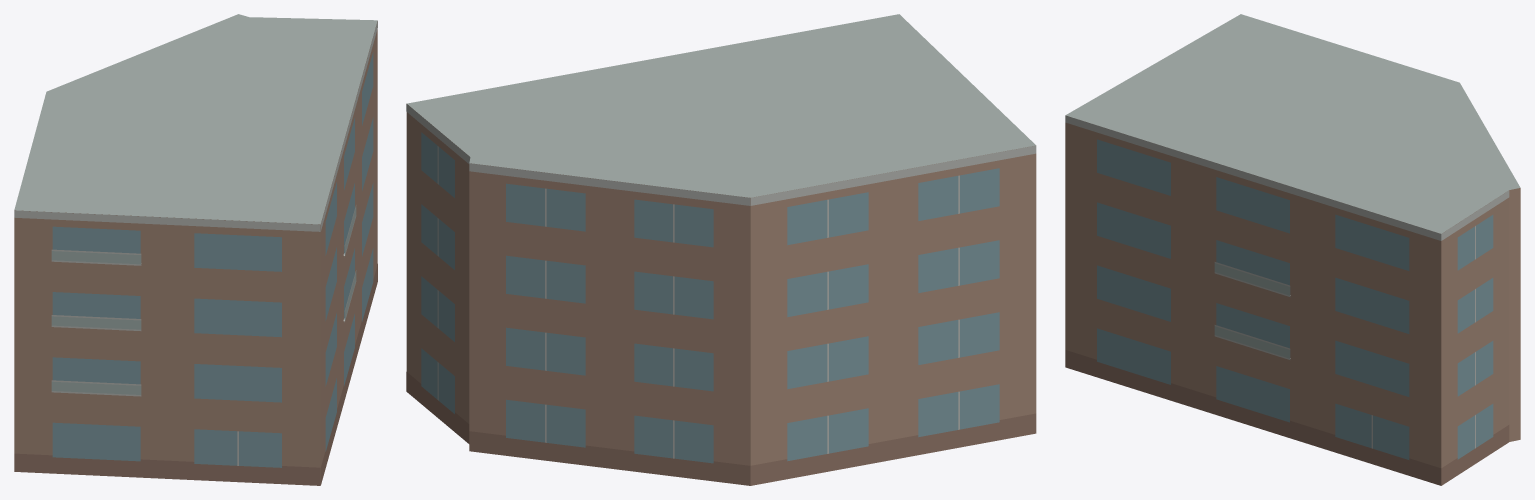
Rendered from survey-upis-32917486.glb.
3 views of the same model, side by side, from view 1: azimuth 30°, elevation 25°; view 2: azimuth 150°, elevation 25°; view 3: azimuth 270°, elevation 25° (orthographic). The views are drawn at different scales.
Visible parts, largest first — view 1: survey-upis-32917486.tmp; view 2: survey-upis-32917486.tmp; view 3: survey-upis-32917486.tmp.
Boxes of the visible parts, x1,y1,x2,y2 form: survey-upis-32917486.tmp: (14, 14, 377, 485); survey-upis-32917486.tmp: (406, 14, 1036, 485); survey-upis-32917486.tmp: (1065, 14, 1520, 485).
Size of the model in its own units: 16.11 by 8.6 by 14.1.
